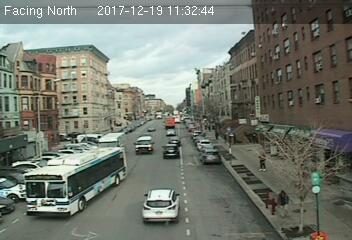bus: (22, 146, 128, 217)
car: (140, 188, 181, 223), (200, 148, 220, 163), (162, 144, 180, 156)
truck: (135, 136, 154, 154)
